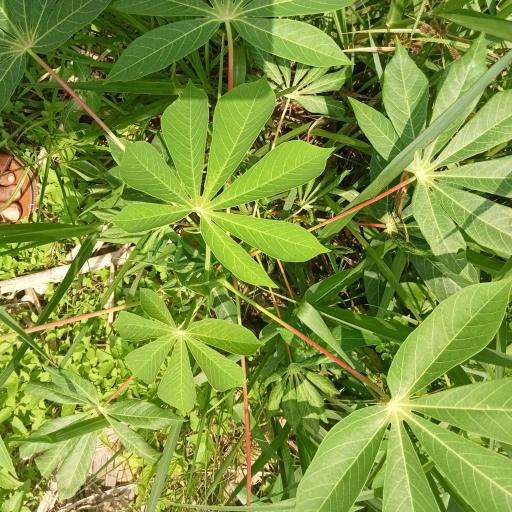Cassava_Healthy: (300, 280, 510, 512), (120, 82, 323, 286), (362, 35, 512, 267), (119, 285, 264, 410)
